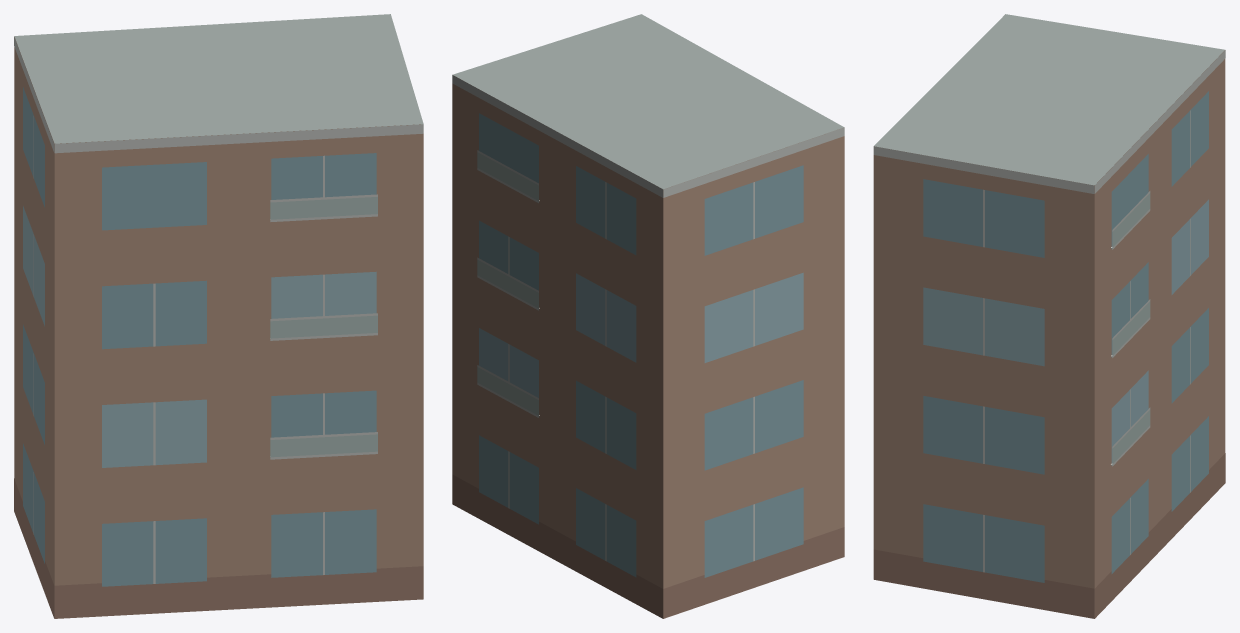
File: survey-upis-32749964.glb
The picture shows the model from 3 angles, left to right: view 1: azimuth 30°, elevation 25°; view 2: azimuth 150°, elevation 25°; view 3: azimuth 270°, elevation 25°; orthographic projection. The views are drawn at different scales.
Visible parts, largest first — view 1: survey-upis-32749964.tmp; view 2: survey-upis-32749964.tmp; view 3: survey-upis-32749964.tmp.
Boxes of the visible parts, <box> form: survey-upis-32749964.tmp: <box>14,14,423,618</box>; survey-upis-32749964.tmp: <box>452,14,844,618</box>; survey-upis-32749964.tmp: <box>873,14,1225,618</box>.
Bounding box in the file's own units: 10.27 × 12.1 × 8.91.
